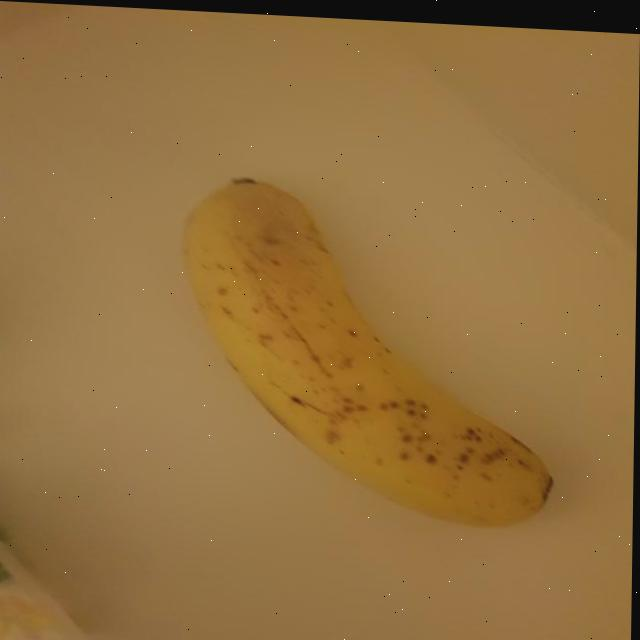banana: (162, 160, 563, 544)
